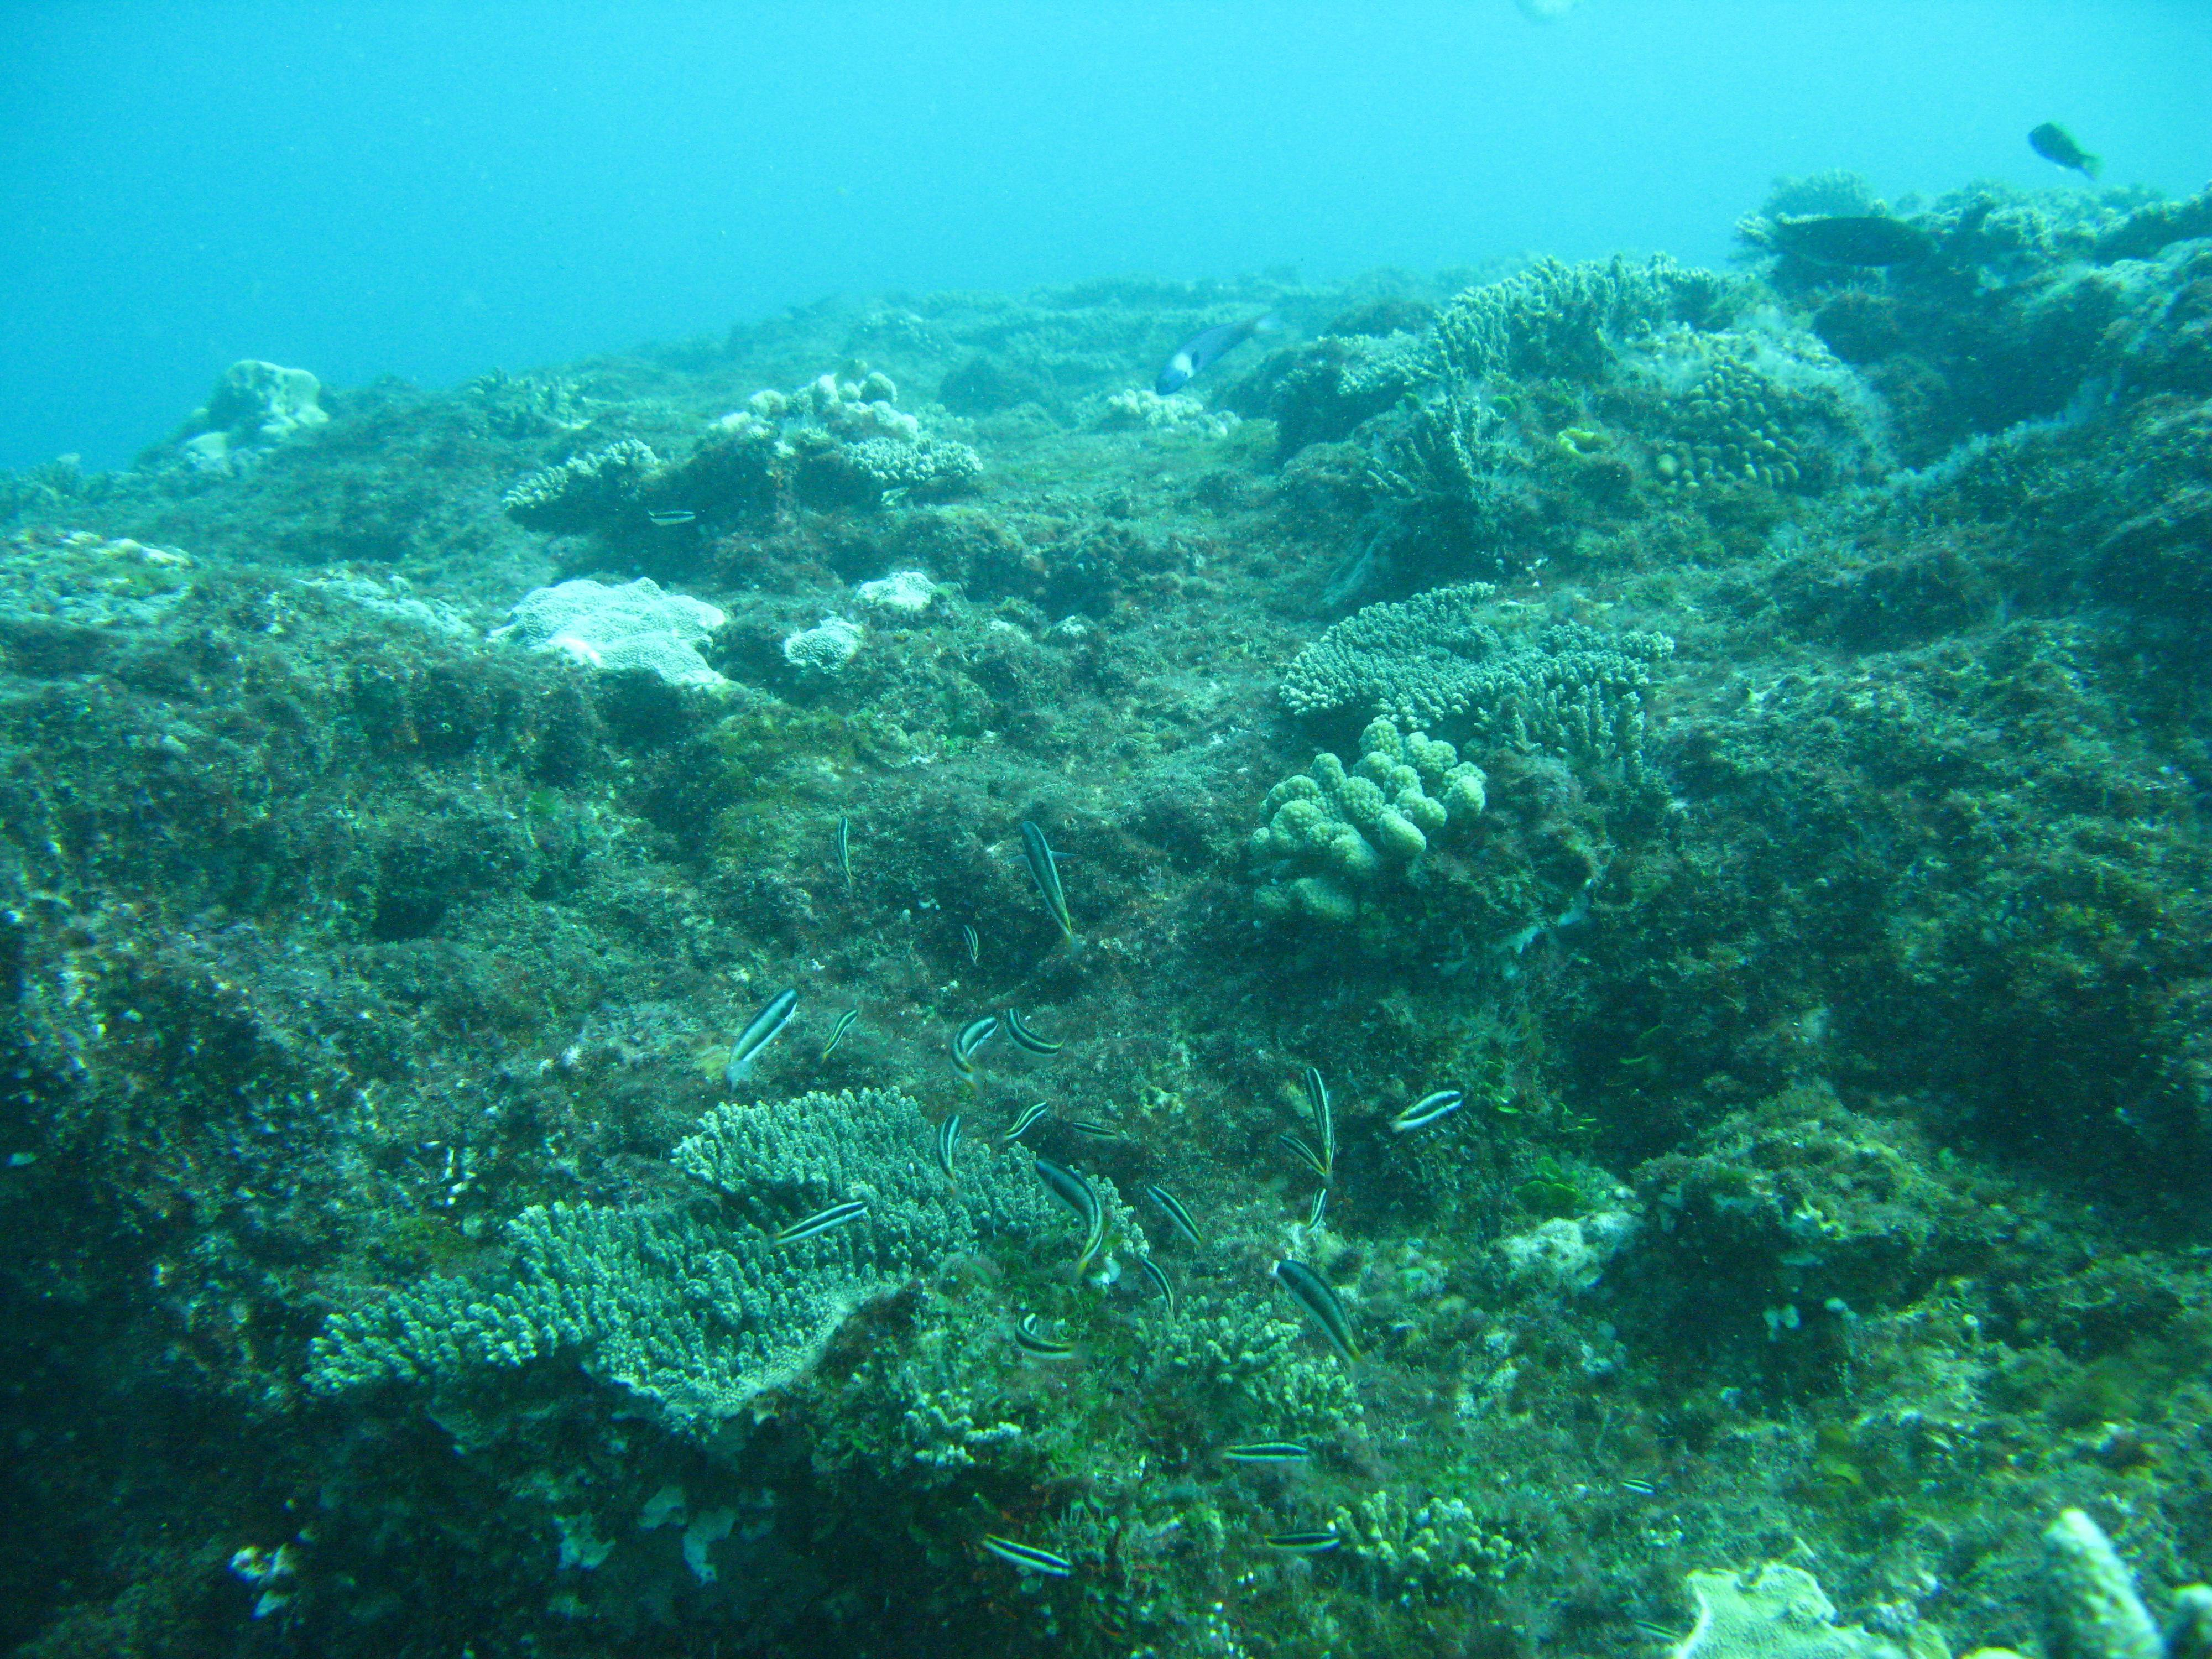Thalassoma amblycephalum: (1263, 1243, 1383, 1380), (998, 803, 1089, 946), (1024, 1143, 1109, 1281), (960, 1513, 1096, 1591), (718, 967, 803, 1086), (749, 1192, 881, 1260), (1296, 1040, 1353, 1183), (998, 1302, 1078, 1389), (817, 789, 869, 922), (1141, 1176, 1223, 1255), (1376, 1079, 1472, 1143), (996, 995, 1075, 1073), (941, 999, 1003, 1093), (810, 993, 888, 1066), (1245, 1520, 1366, 1567), (1207, 1436, 1334, 1478), (923, 1108, 981, 1185), (939, 903, 991, 972), (1000, 1087, 1050, 1148)
